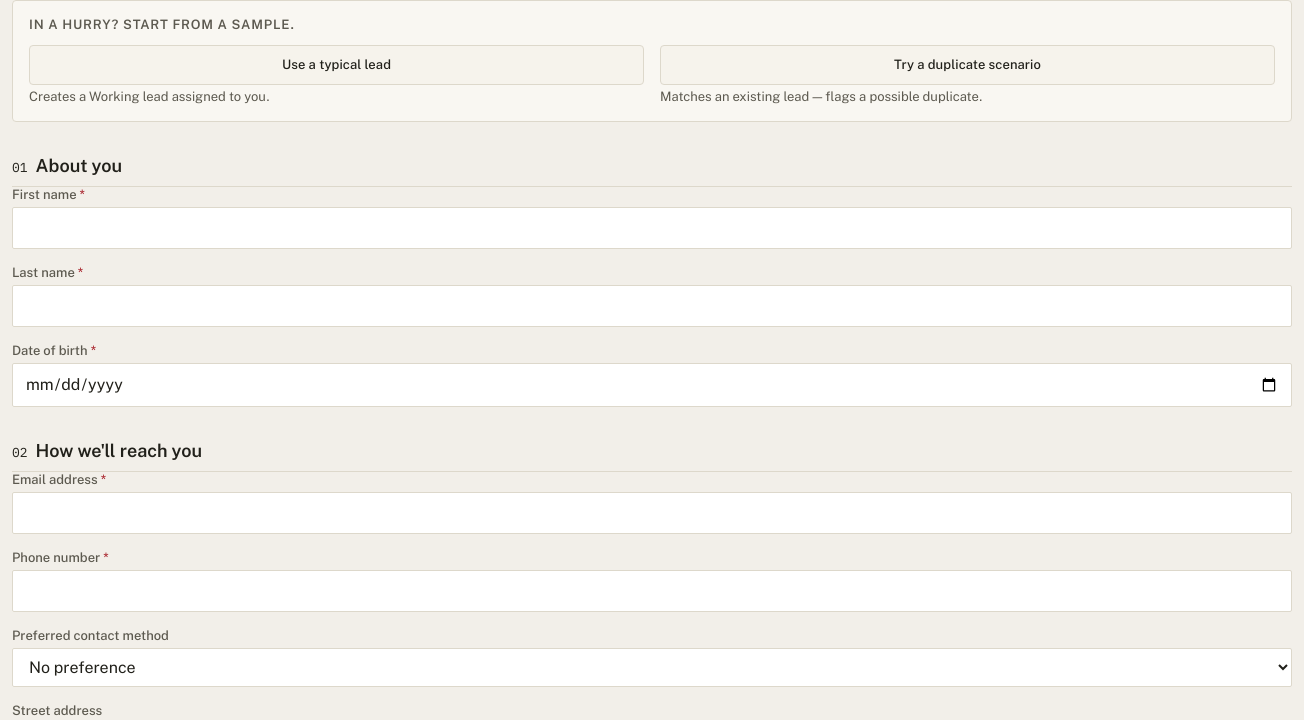
Test: AgentIntakeForm prefill › fills the form from the duplicate scenario (the Jordan Rivera bait)
Click the button with id "agent-intake-prefill-duplicate-button" at (968, 65), box top-left (660, 45), bottom-right (1275, 85)
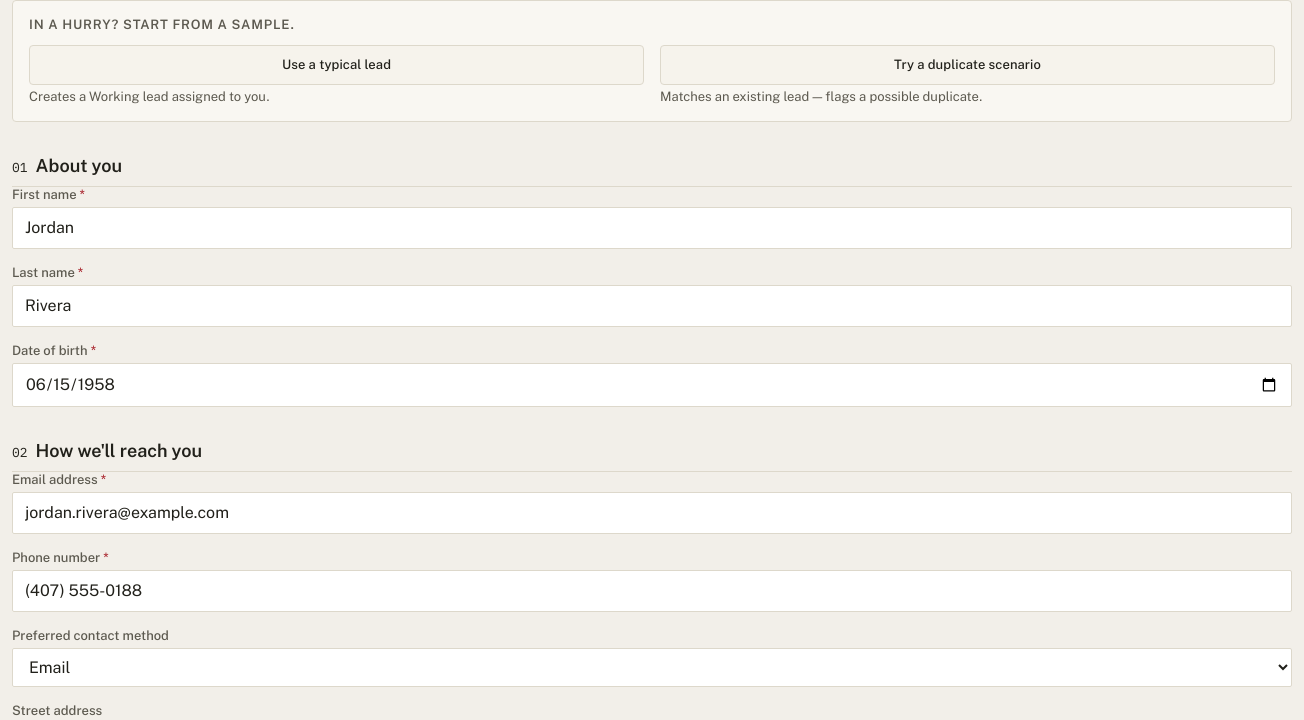
Result: the field with id "agent-intake-email" holds "jordan.rivera@example.com" at top-left (12, 492), bottom-right (1292, 534)
Result: the field with id "agent-intake-phone" holds "(407) 555-0188" at top-left (12, 570), bottom-right (1292, 612)
